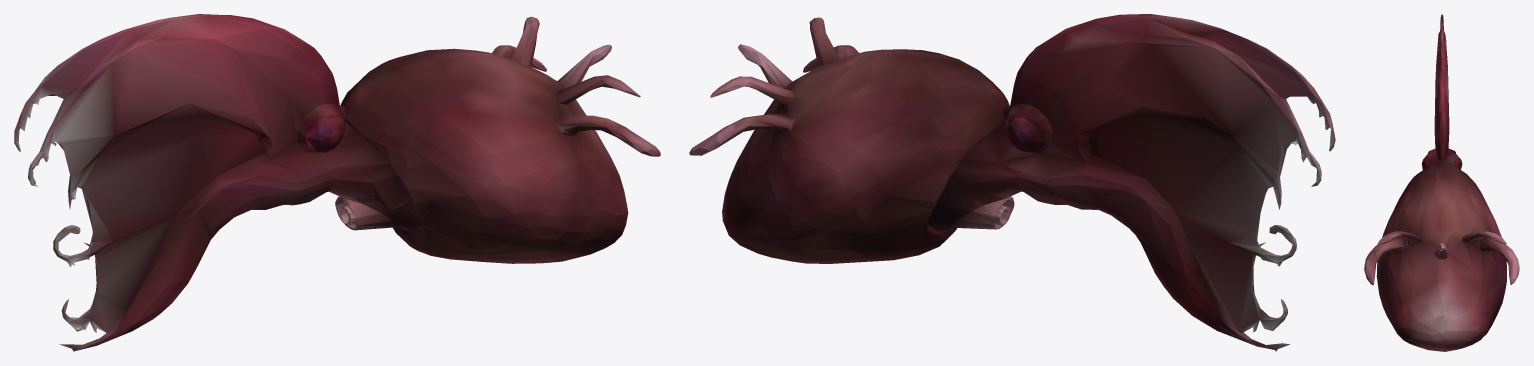
Rendered from vampire_squid.glb.
3 renders of one model, left to right at view 1: azimuth 30°, elevation 25°; view 2: azimuth 150°, elevation 25°; view 3: azimuth 270°, elevation 25°, orthographic. The views are drawn at different scales.
Parts seen in each view (by area): view 1: geometry_0; view 2: geometry_0; view 3: geometry_0.
Part boxes in pixels (<box>): geometry_0: <box>14,14,660,351</box>; geometry_0: <box>689,14,1335,351</box>; geometry_0: <box>1364,14,1519,351</box>.
Size of the model in its own units: 1 by 0.5248 by 0.372.
